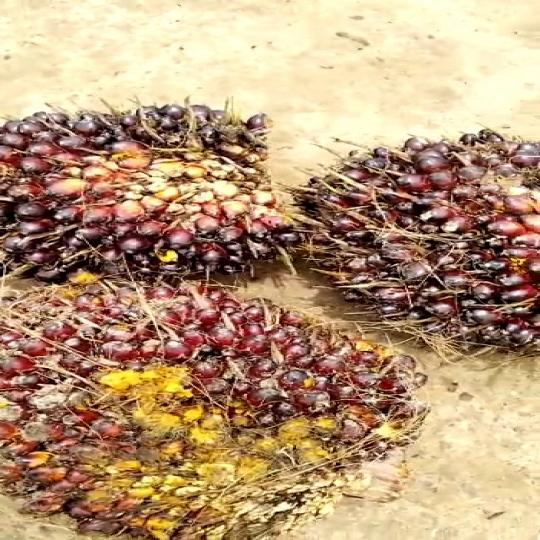kurang masak: (0, 280, 440, 526), (0, 96, 311, 289), (297, 126, 540, 350)
